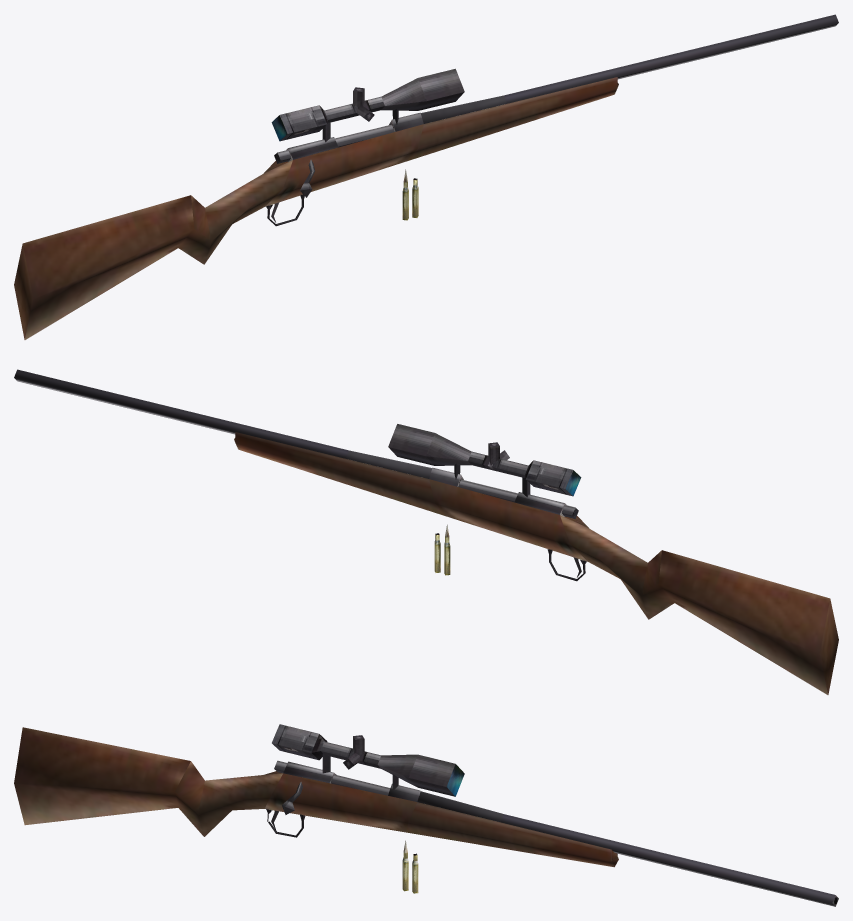
The picture shows the model from 3 angles, top to bottom: view 1: azimuth 30°, elevation 25°; view 2: azimuth 150°, elevation 25°; view 3: azimuth 330°, elevation 25°; orthographic projection.
Visible parts, largest first — view 1: BARilfeBody&Barrel, BARifleScope, BARifleBolt; view 2: BARilfeBody&Barrel, BARifleScope, BARifleBolt; view 3: BARilfeBody&Barrel, BARifleScope, BARifleBolt.
Part boxes in pixels (box(x1,y1,x2,y2)): BARilfeBody&Barrel: box(14, 14, 838, 339); BARifleScope: box(271, 68, 464, 142); BARifleBolt: box(274, 124, 394, 197); BARilfeBody&Barrel: box(14, 369, 838, 694); BARifleScope: box(388, 424, 581, 497); BARifleBolt: box(458, 479, 578, 518); BARilfeBody&Barrel: box(14, 727, 838, 906); BARifleScope: box(272, 724, 464, 796); BARifleBolt: box(274, 760, 390, 814).
Bounding box in the file's own units: 8.94 × 1.78 × 0.4137.
Materials: 4 (4 with a texture image).
